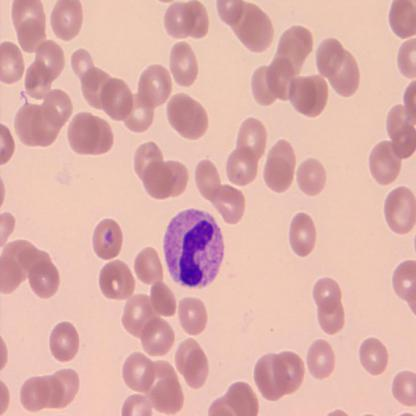Band Neutrophil: (160, 204, 226, 292)
